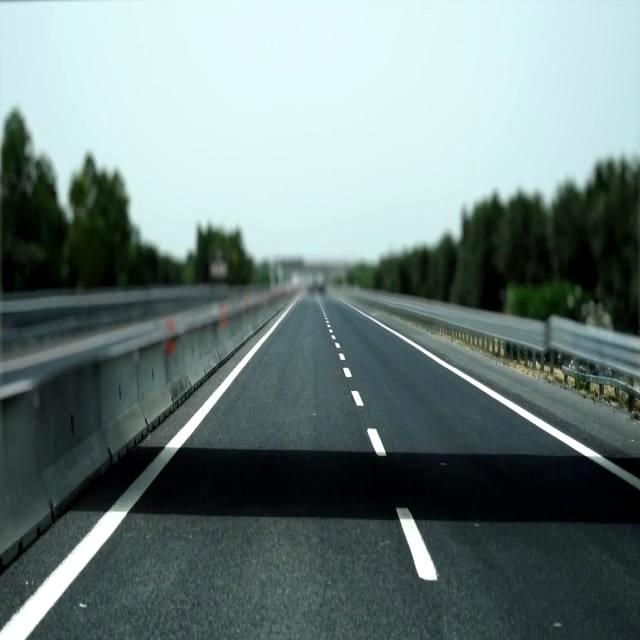lane: (0, 295, 301, 640), (345, 303, 640, 491), (397, 508, 436, 581), (368, 428, 386, 456)
road: (27, 295, 639, 639), (0, 336, 257, 626), (431, 342, 639, 476)
